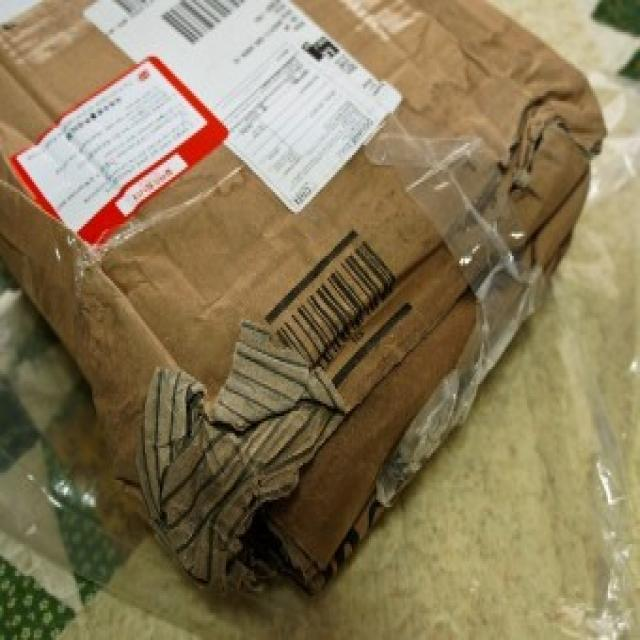damaged: (212, 505, 314, 595)
